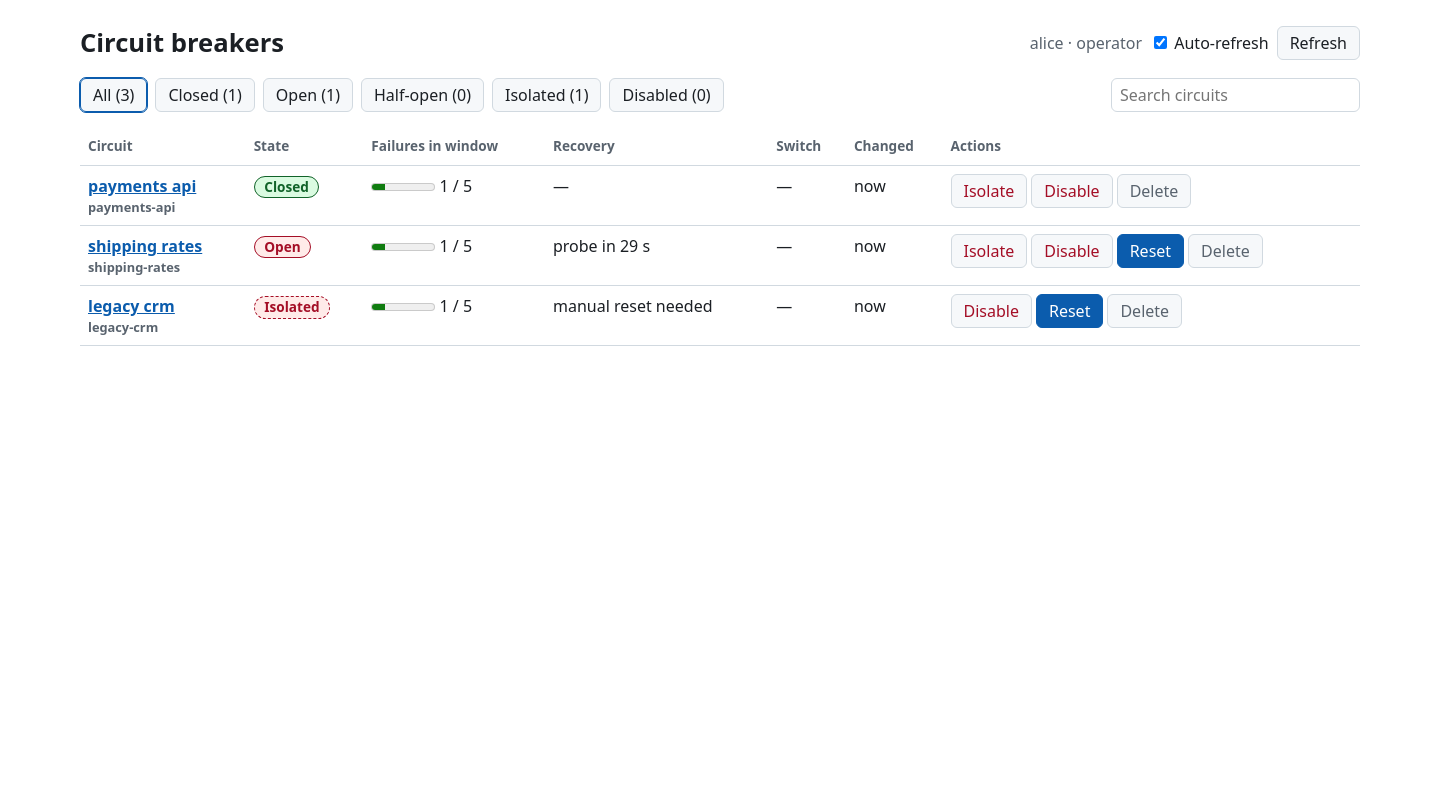
Scenario: the circuit console › explains a refused action
Click the button with aria-label "Reset shipping rates" at (1150, 251), box [1117, 234, 1184, 268]
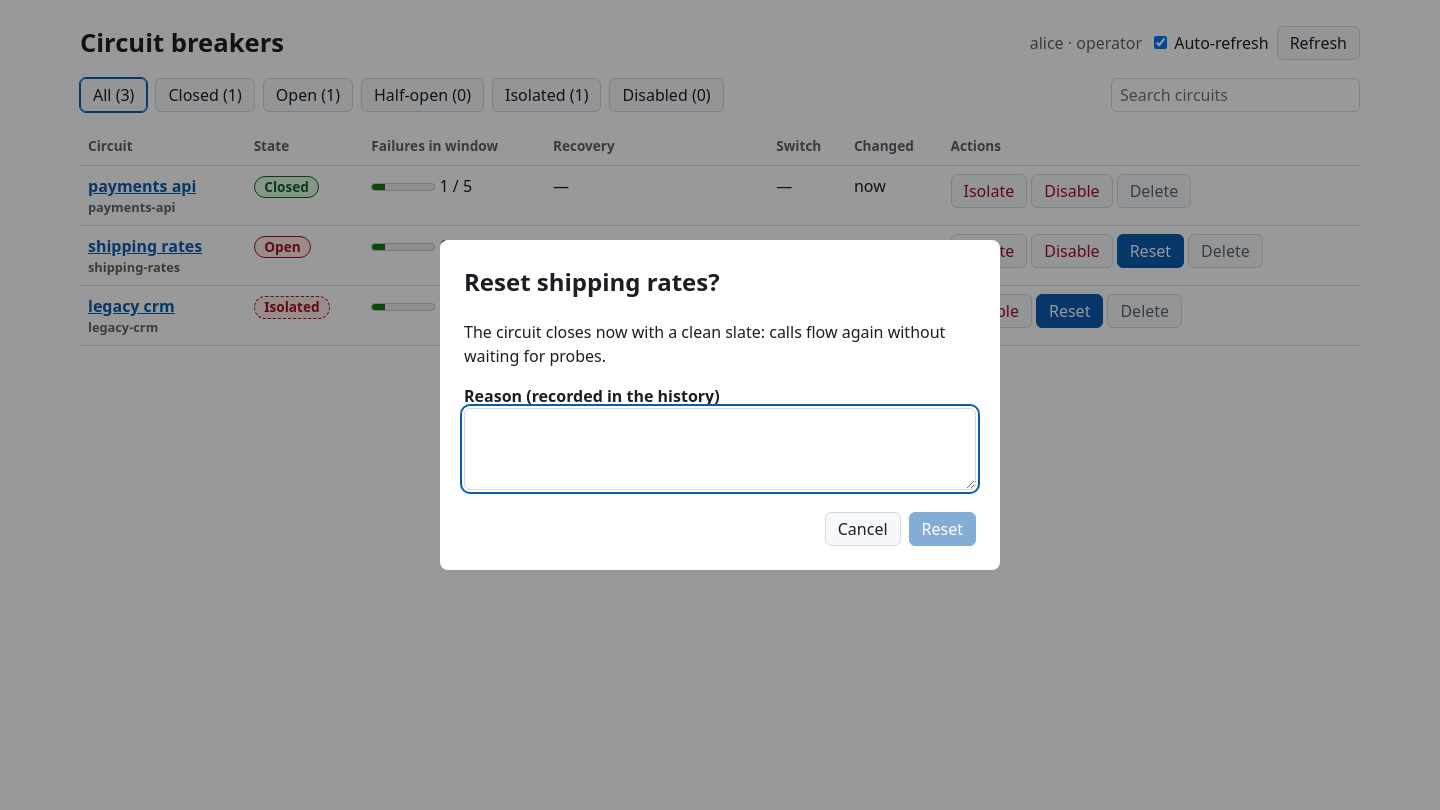
Type "Try anyway" into the text box labelled "Reason (recorded in the history)" at (720, 449), box [464, 408, 976, 490]
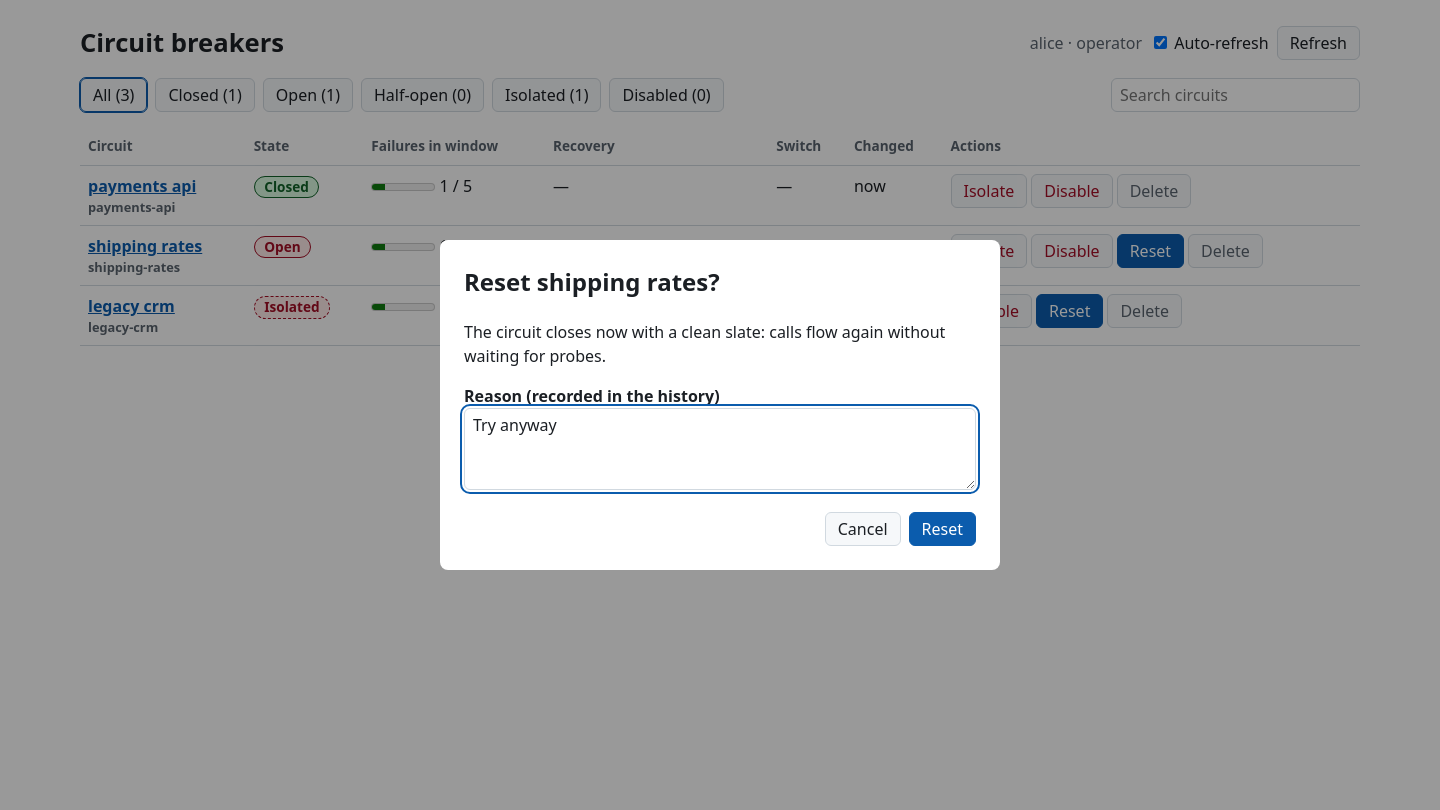
Click the button "Reset" at (942, 529), box [908, 512, 976, 546]
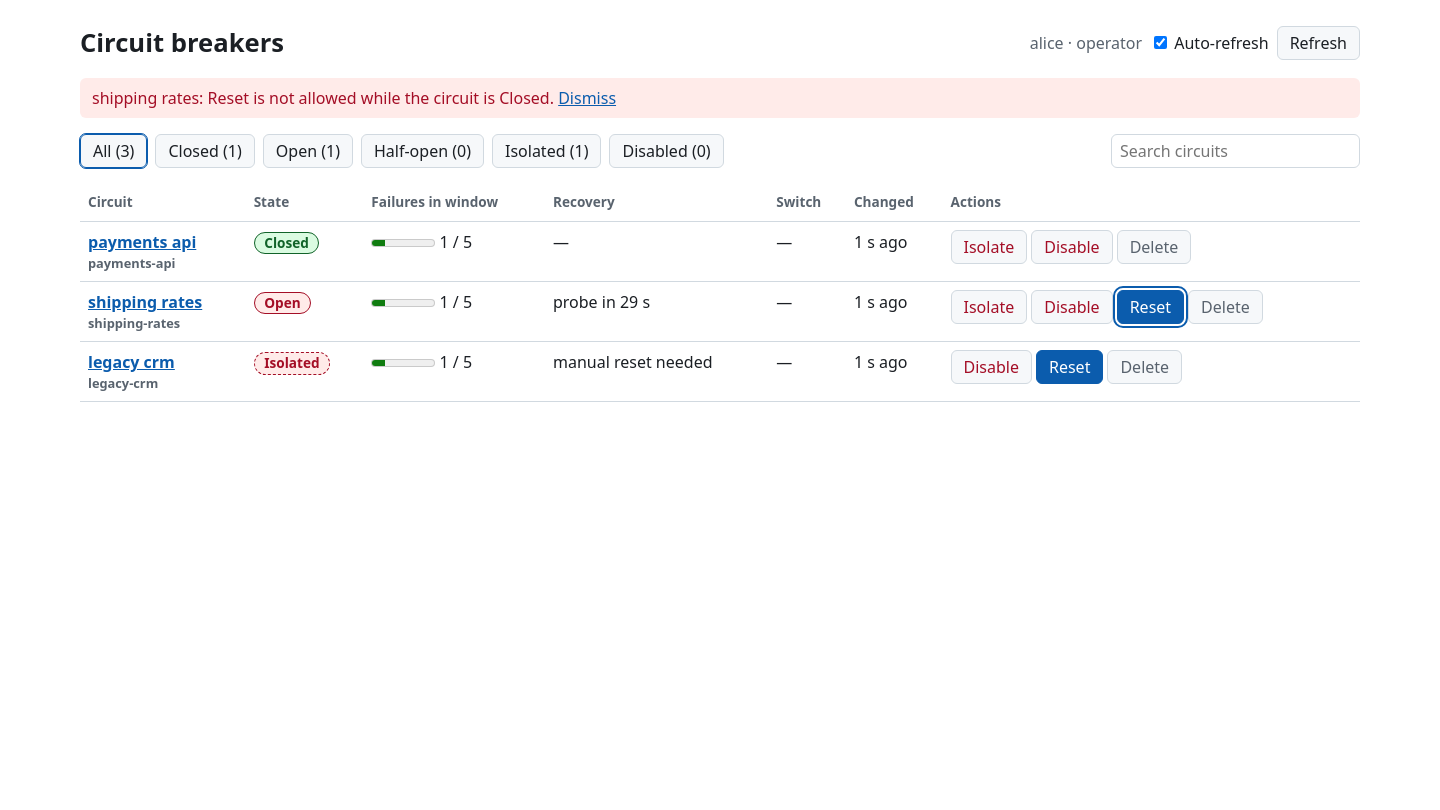
expect the message shows "not allowed while the circuit is Closed": met, box [92, 87, 554, 109]
